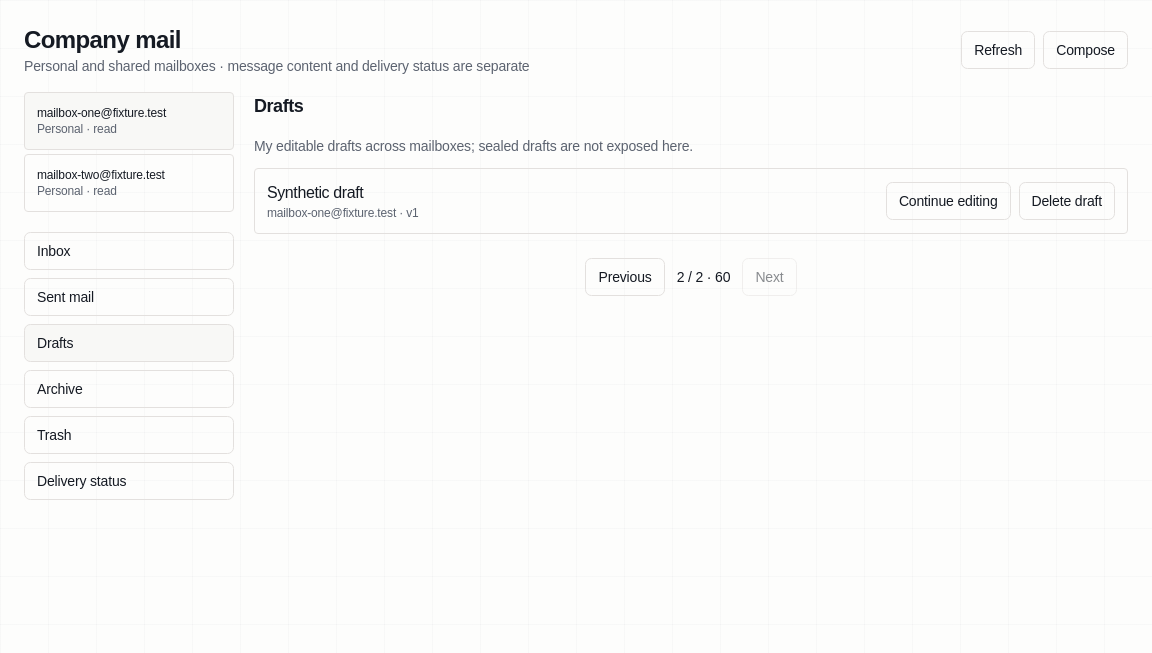
Scenario: editor opening completion ownership › Continue editing ordinarily opens its prepared editor
Click the button "Continue editing" at (948, 201), box [886,182,1010,220]
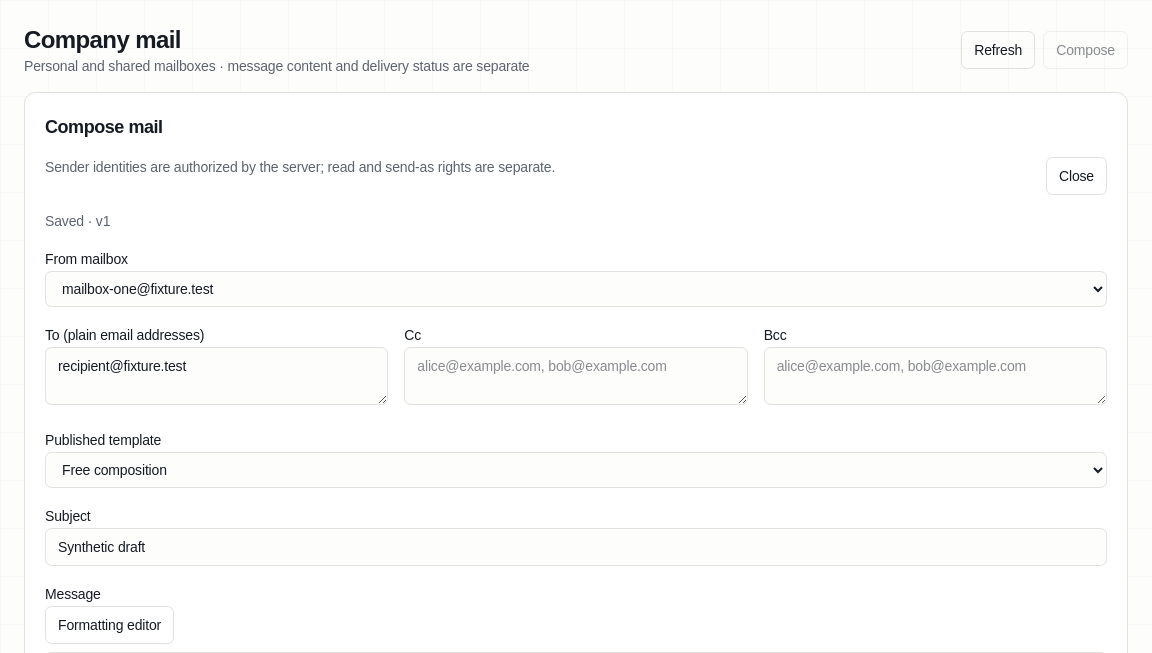
expect the field labelled "Subject" holds "Synthetic draft": met, box [45,528,1107,566]
